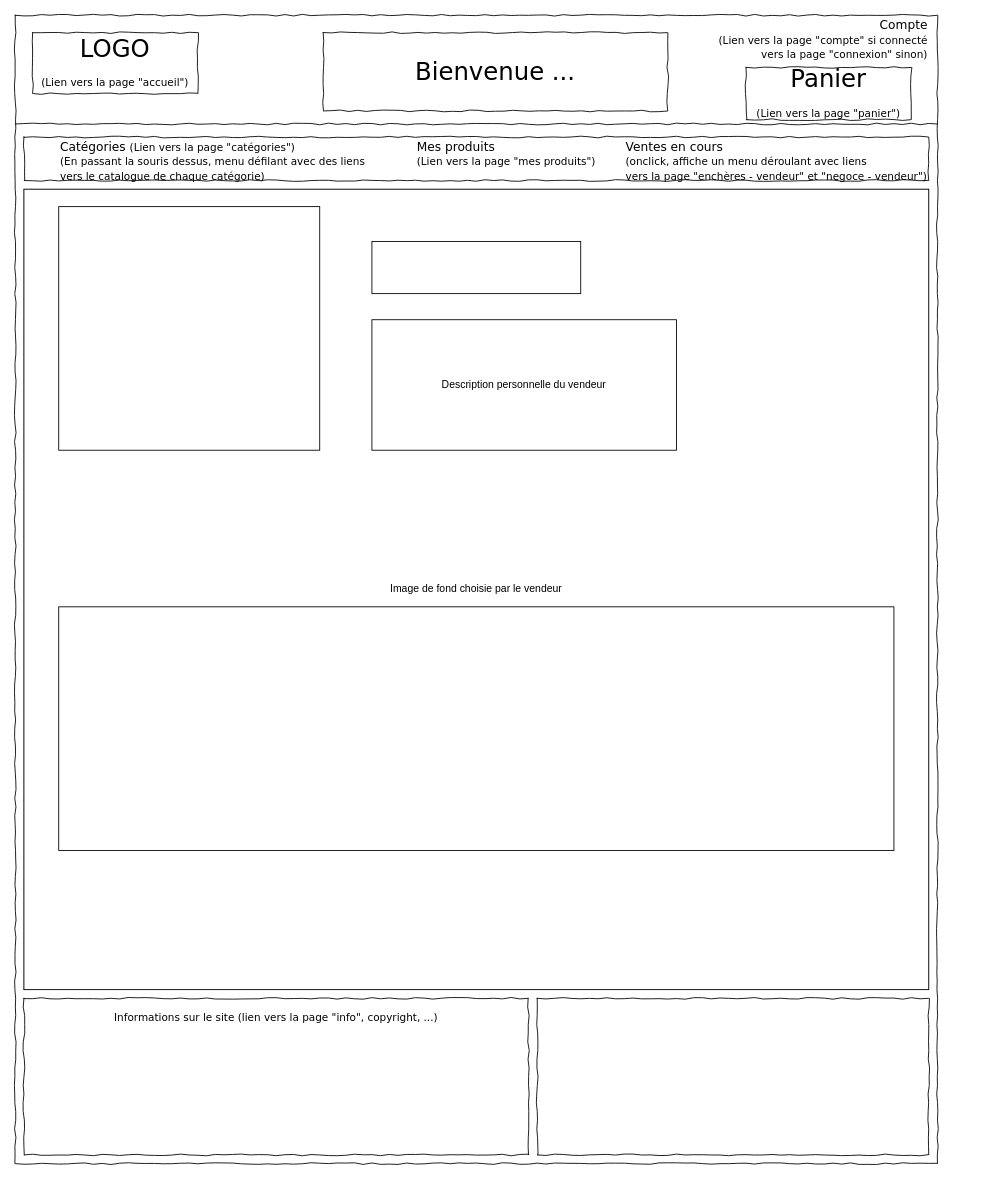
This 996x1179 diagram has some shape labels left out. Each missing label, with the centre of its shape:
"Diaporama d'images de produits que le vendeur propose" belongs at [476,728].
"Nous contacter" belongs at [732,1076].
"Photo choisie par le vendeur" belongs at [189,328].
"Pseudo du vendeur" belongs at [476,267].
